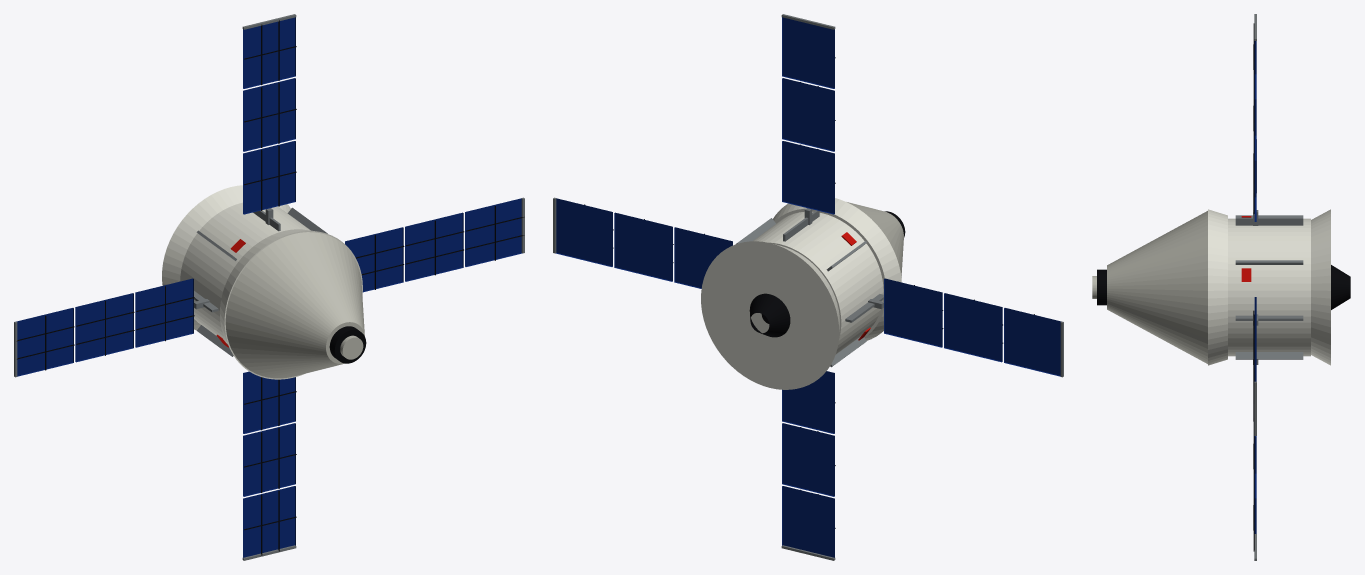
Rendered from orion_crew_service_solar_arrays_simplified.obj.
The picture shows the model from 3 angles, left to right: view 1: azimuth 30°, elevation 25°; view 2: azimuth 150°, elevation 25°; view 3: azimuth 270°, elevation 25°; orthographic projection. The views are drawn at different scales.
Bounding box in the file's own units: 18.78 × 18.78 × 8.43.
